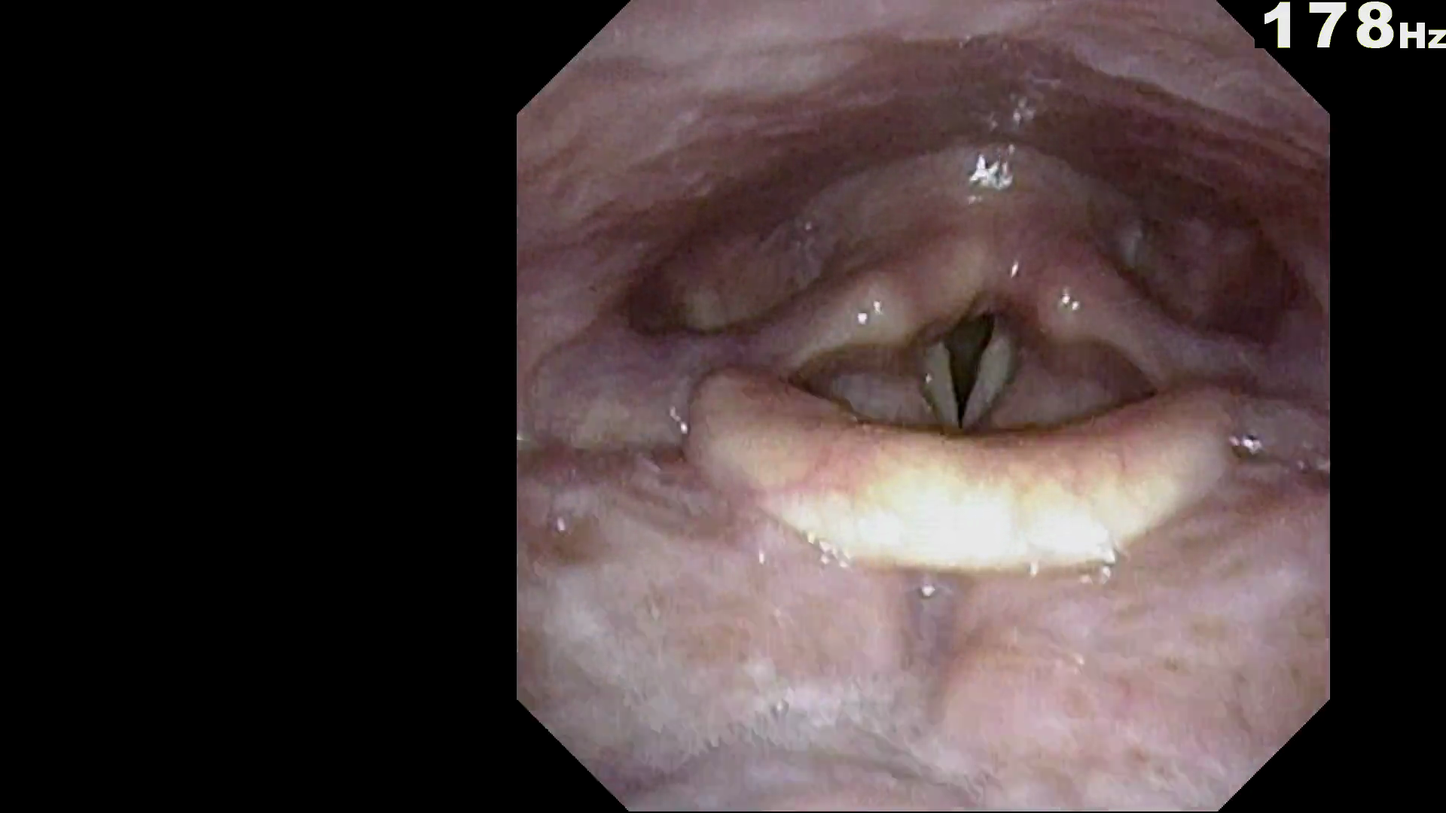epiglottis: (667, 346, 1265, 589)
trachea: (919, 308, 1014, 421)
